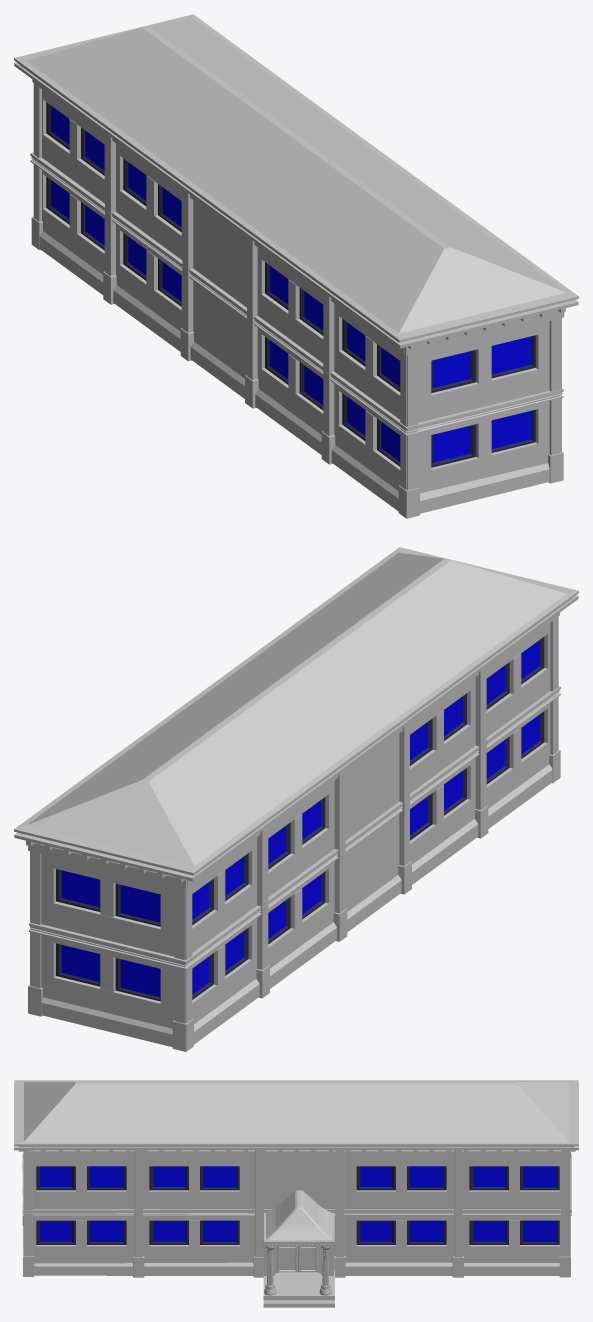
3 views of the same model, one above another, from view 1: azimuth 30°, elevation 25°; view 2: azimuth 150°, elevation 25°; view 3: azimuth 270°, elevation 25° (orthographic). The views are drawn at different scales.
Parts seen in each view (by area): view 1: Cube.021 (×7), Cube.001, Cube.000, Cube.007, Cube.010; view 2: Cube.021 (×7), Cube.001, Cube.000, Cube.007, Cube.010; view 3: Cube.021 (×15), Cube.001, Cube.000, Cube.007, Cube.010.
Part boxes in pixels (x1=…): Cube.021 (×7): x1=14, y1=14, x2=578, y2=518; Cube.001: x1=42, y1=89, x2=549, y2=422; Cube.000: x1=42, y1=170, x2=549, y2=493; Cube.007: x1=39, y1=231, x2=549, y2=513; Cube.010: x1=32, y1=79, x2=564, y2=355; Cube.021 (×7): x1=14, y1=547, x2=578, y2=1051; Cube.001: x1=41, y1=623, x2=550, y2=956; Cube.000: x1=41, y1=703, x2=550, y2=1028; Cube.007: x1=41, y1=764, x2=552, y2=1046; Cube.010: x1=28, y1=613, x2=559, y2=888; Cube.021 (×15): x1=14, y1=1080, x2=578, y2=1307; Cube.001: x1=33, y1=1158, x2=560, y2=1209; Cube.000: x1=33, y1=1216, x2=560, y2=1263; Cube.007: x1=23, y1=1216, x2=570, y2=1275; Cube.010: x1=23, y1=1150, x2=570, y2=1158.
Size of the model in its own units: 0.758 by 0.6487 by 2.
